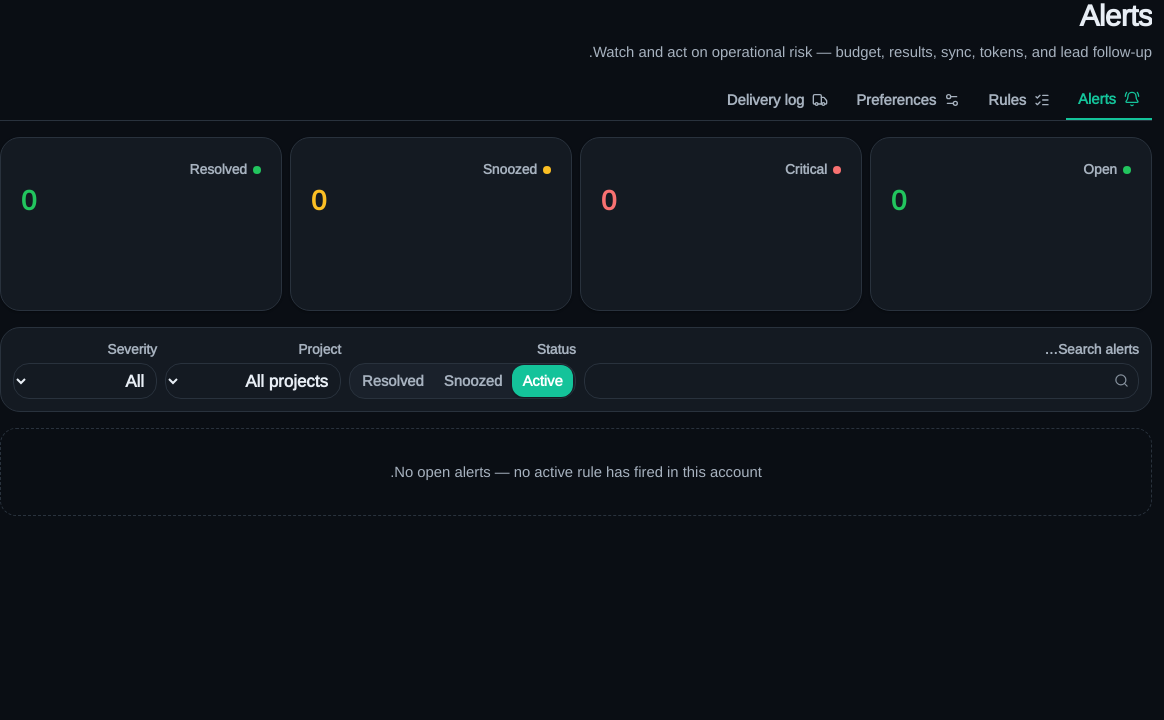
AlertsPage — engine-fed rule form › feeds type / severity / channels from the taxonomy engine
Click the button "Rules". click: click(1019, 100)
box: [976, 80, 1062, 120]
(page scrolled)
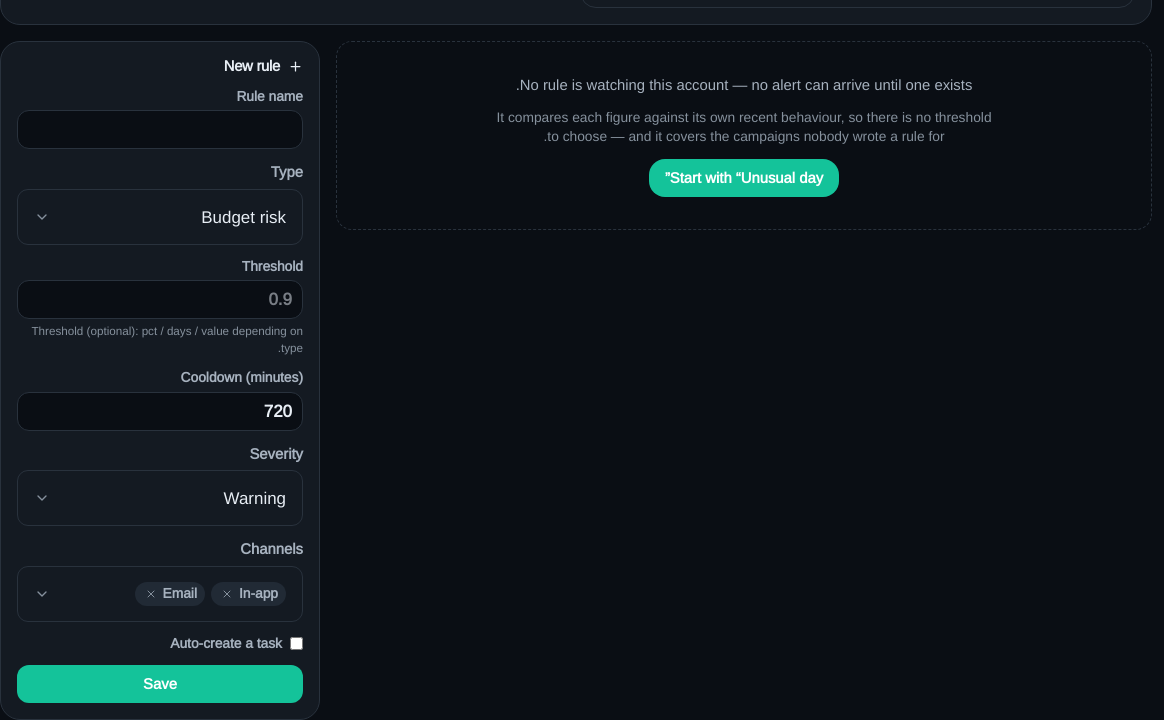
Check: the dropdown named "Type" reads "Budget risk", box [17, 189, 303, 245]
Check: the dropdown named "Severity" reads "Warning", box [17, 470, 303, 526]
Check: the dropdown named "Channels" shows "In-app", box [17, 566, 303, 622]
